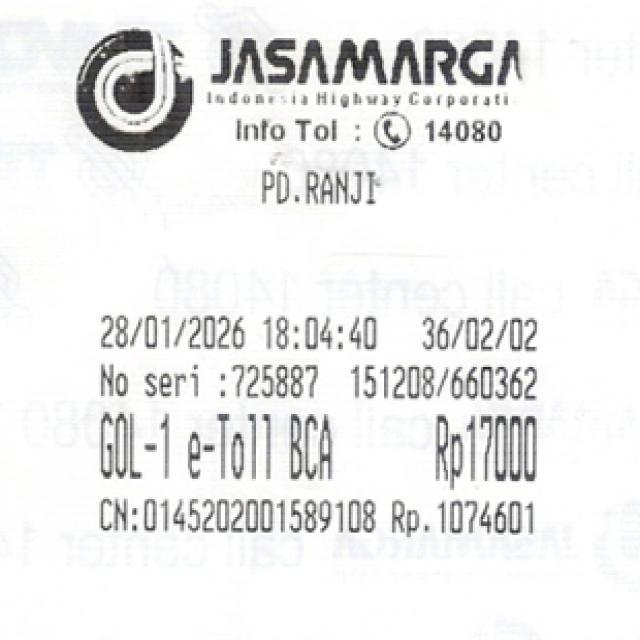date: (88, 308, 384, 354)
store: (191, 35, 533, 116)
total: (422, 407, 554, 488)
